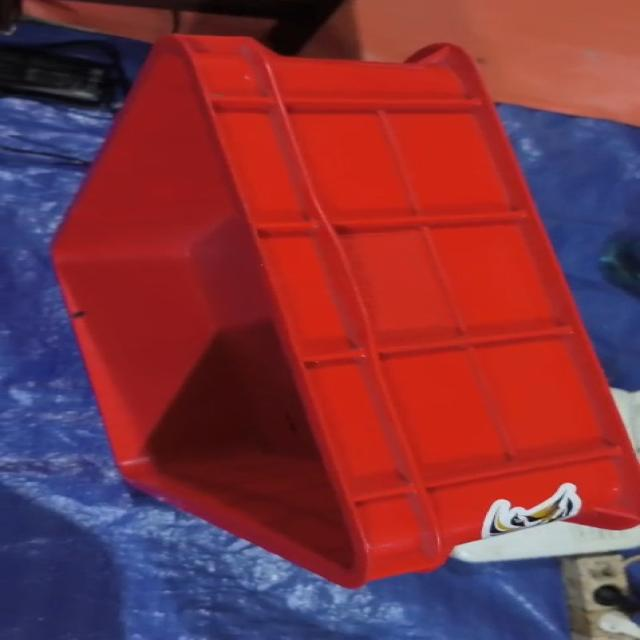red plastic box: (51, 34, 639, 589)
